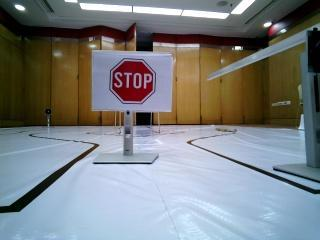stop: (92, 51, 169, 112)
